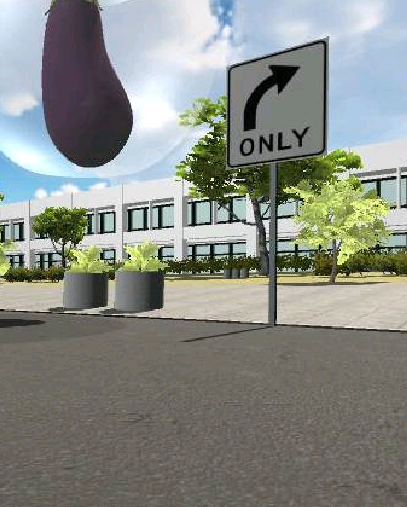arrow_right: (239, 62, 306, 132)
